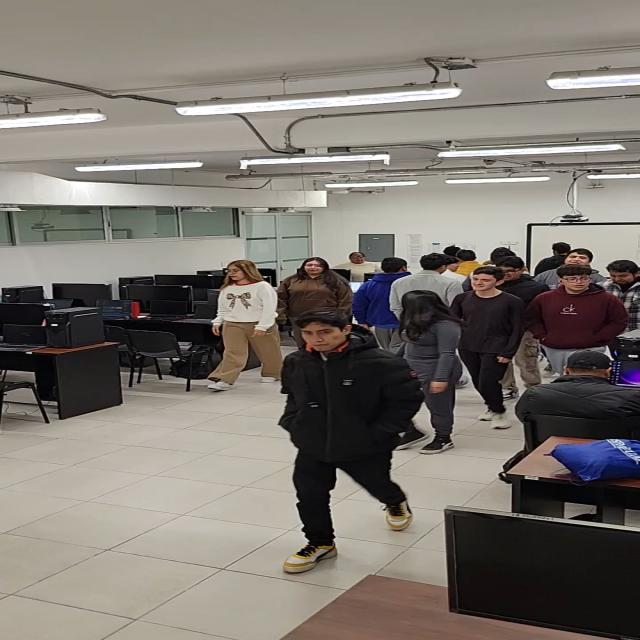Persona: (276, 308, 421, 574), (442, 265, 528, 428), (387, 288, 463, 456), (526, 263, 632, 380), (209, 259, 297, 390), (278, 257, 358, 344), (392, 252, 468, 314), (356, 250, 409, 331), (598, 261, 640, 343), (528, 248, 606, 285), (446, 246, 486, 275), (530, 244, 572, 269)
